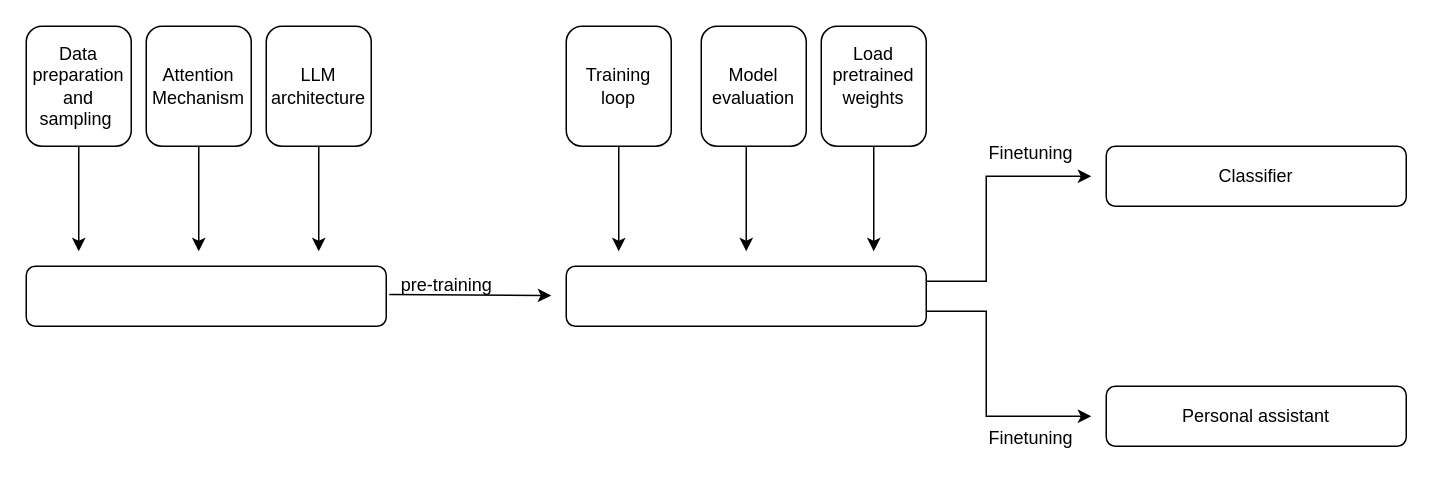
Image size: 1433x488. Some labels were removed from this diagram. Here are the shapes that lost their labels. From the top down, the centre of each, then its label:
At pixel 205 295: "Building an LLM".
At pixel 745 295: "Foundation model".
